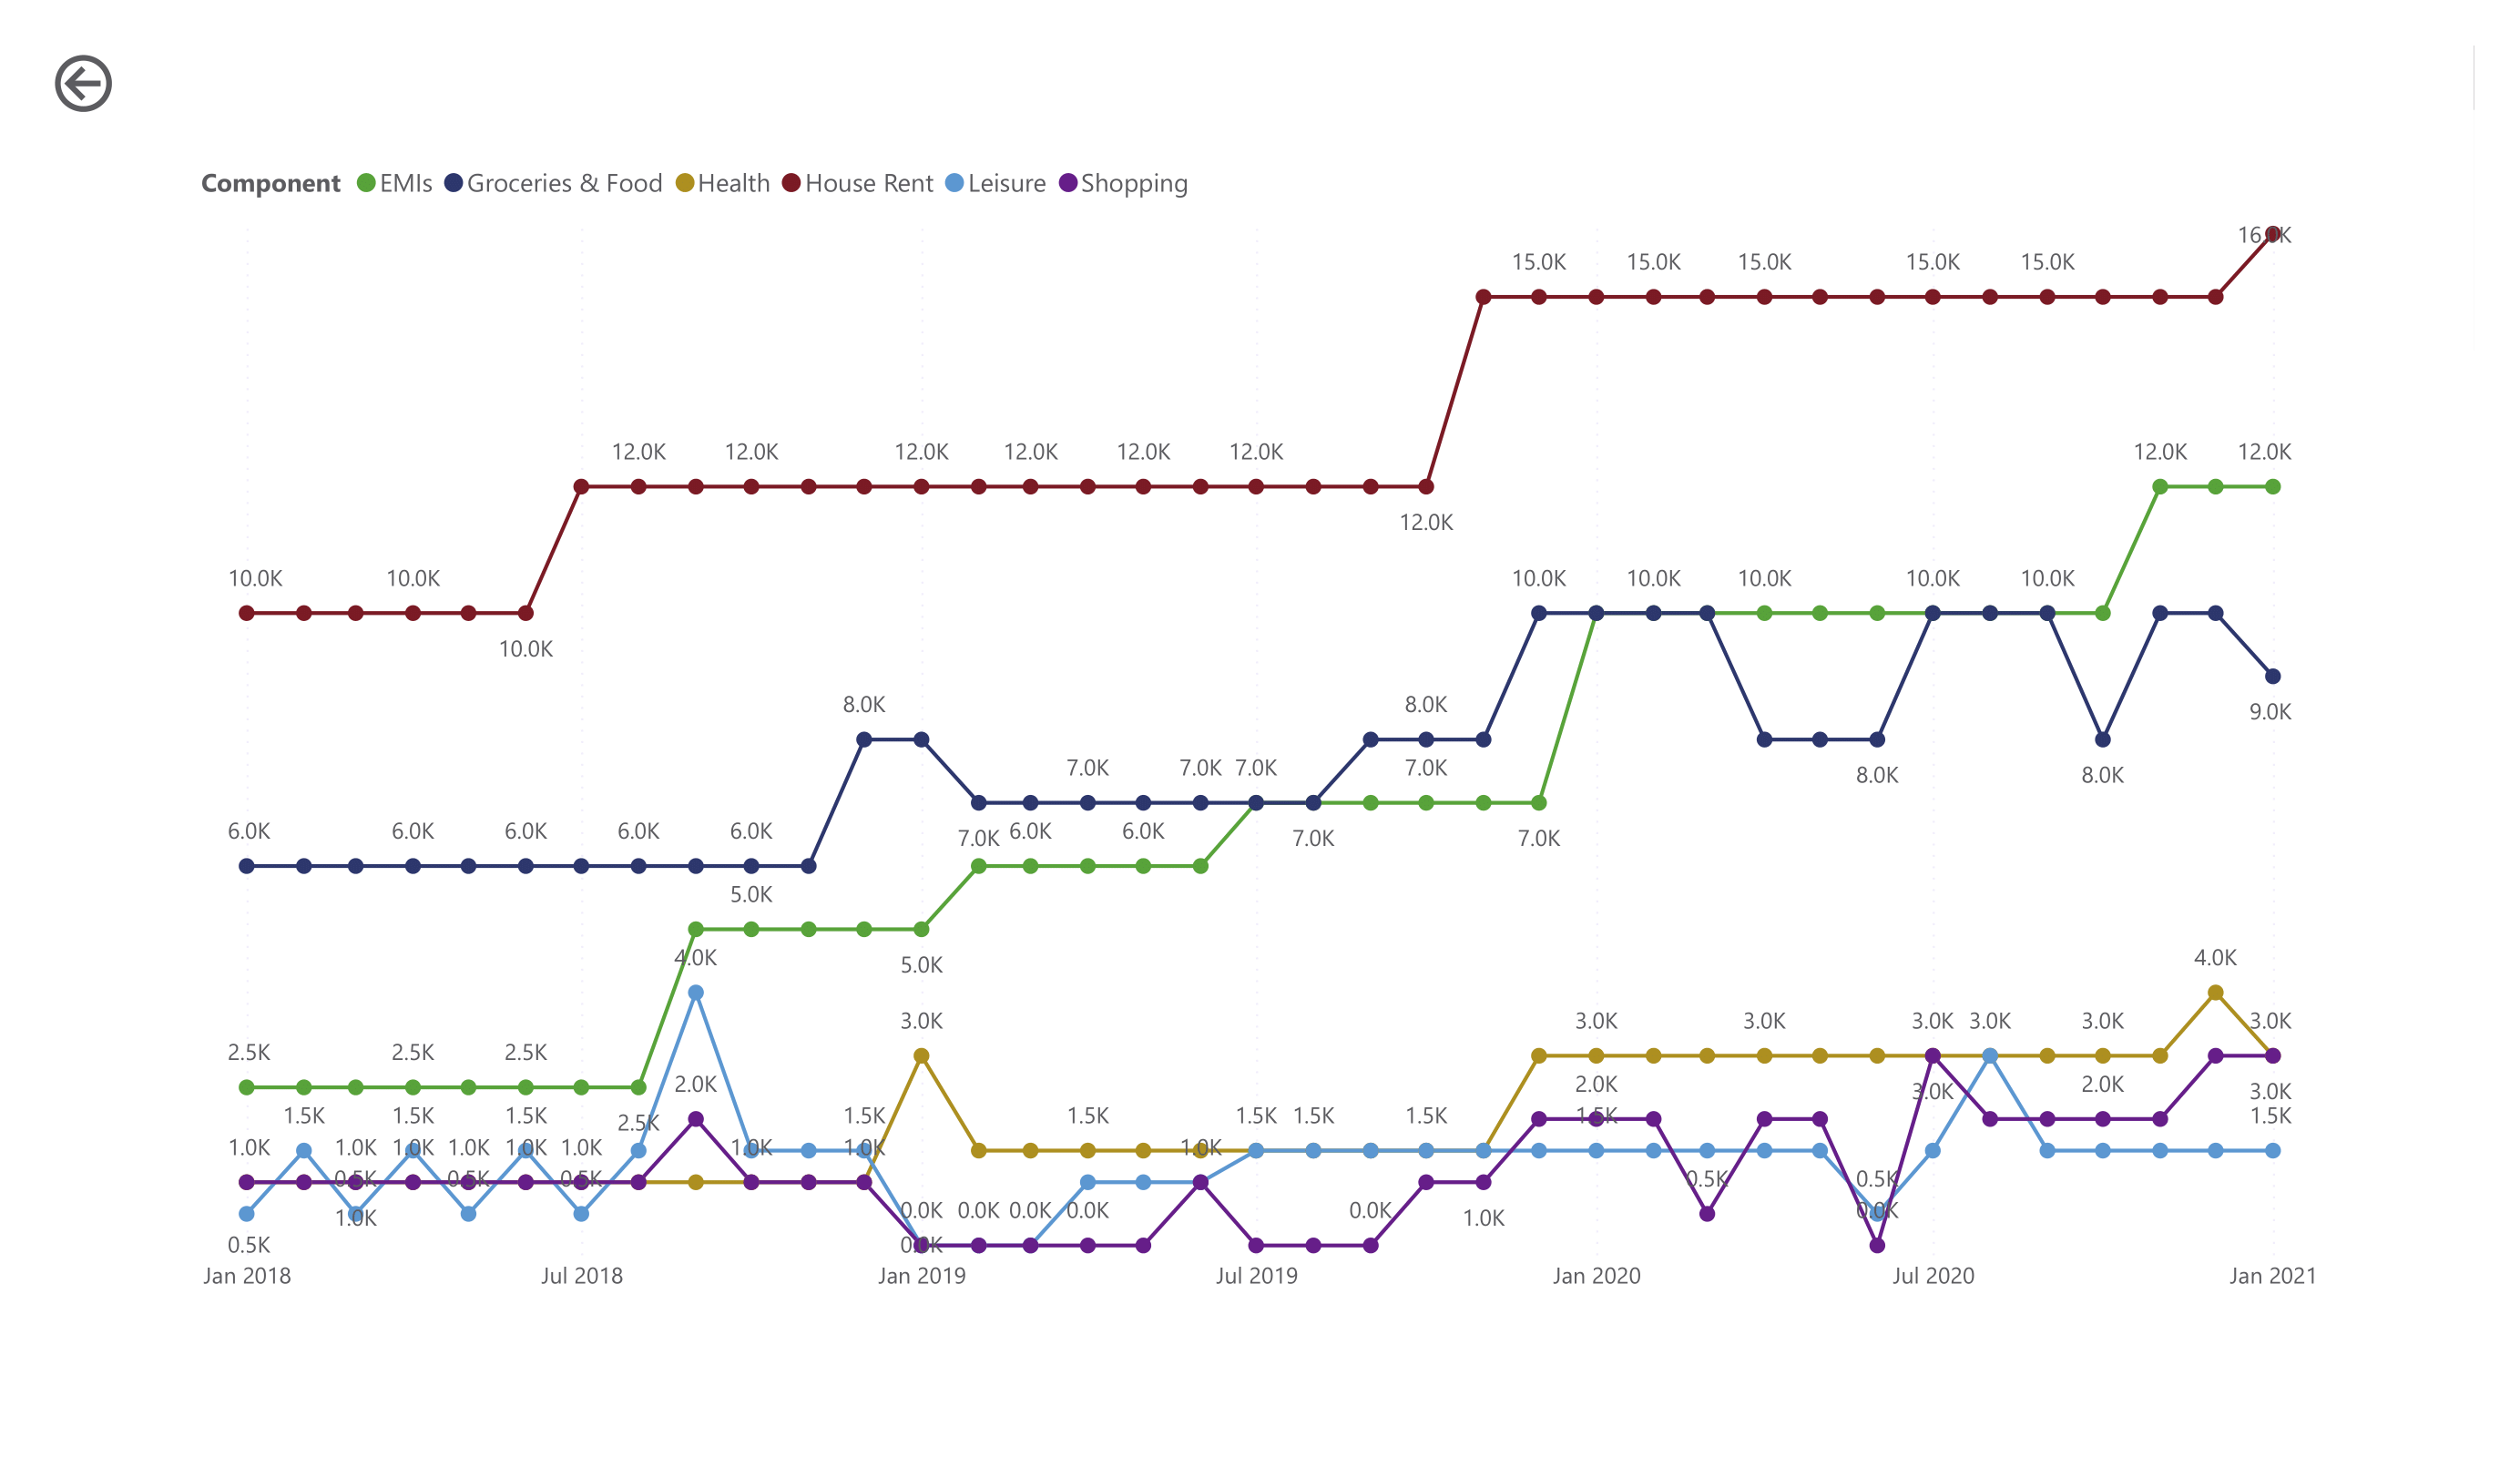

The page's visual inventory and layout, read from the dashboard file:
{"tool":"powerbi","page":{"name":"TT1","canvas":[1280,720],"ordinal":1},"visuals":[{"type":"lineChart","fields":{"Category":["MyFinData.Date"],"Series":["MyFinData.Component"],"Y":["Key Measures.Total Expense"]},"box":[77,52,1126,615],"z":0},{"type":"actionButton","box":[0,0,100,40],"z":1000}]}

Visuals, with their boxes in screenshot pixels (x1, y1, x2, y2):
lineChart - MyFinData.Date x MyFinData.Component: detection(191, 144, 2329, 1311)
actionButton: detection(46, 46, 235, 121)
